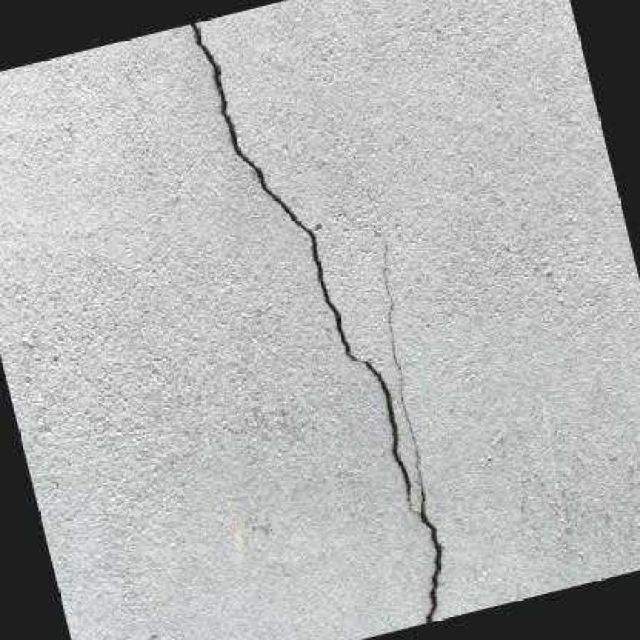D00: (188, 22, 440, 624)
